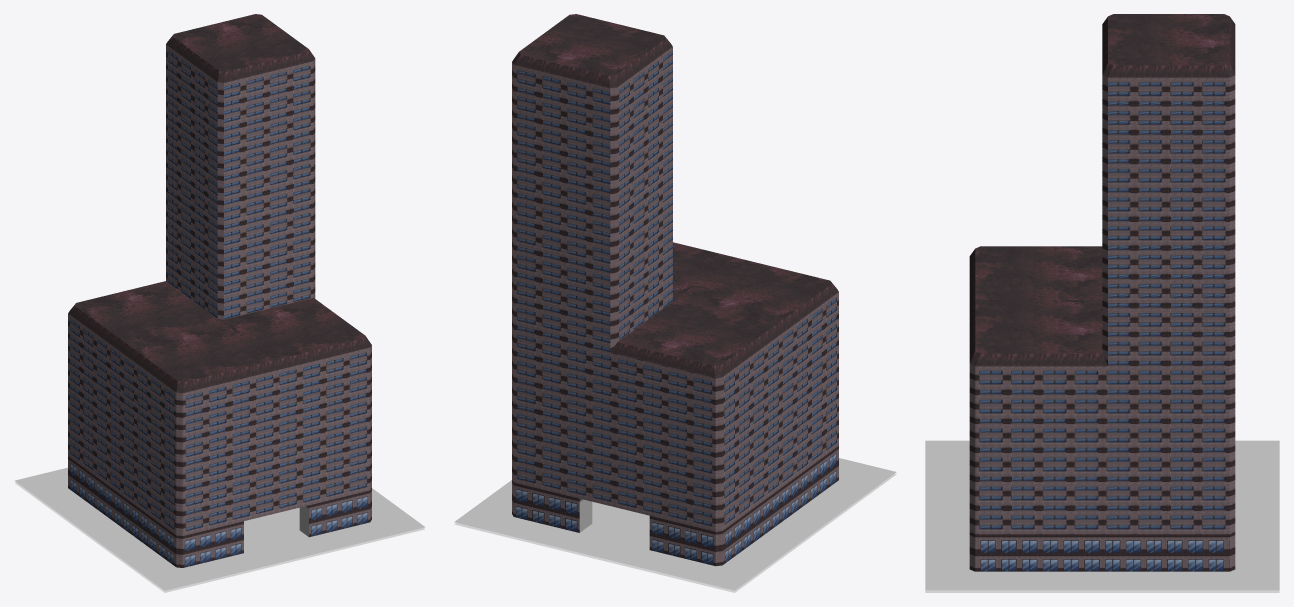
File: bldg03.FBX
3 renders of one model, left to right at view 1: azimuth 30°, elevation 25°; view 2: azimuth 150°, elevation 25°; view 3: azimuth 270°, elevation 25°, orthographic. The views are drawn at different scales.
Parts seen in each view (by area): view 1: bldg03, daroof3, obj002, grid007, terrain__h; view 2: bldg03, daroof3, obj002, grid007, terrain__h; view 3: bldg03, daroof3, obj002, grid007, terrain__h.
Boxes of the visible parts, <box> form: bldg03: <box>68,45,371,535</box>; daroof3: <box>68,14,371,393</box>; obj002: <box>15,467,425,590</box>; grid007: <box>68,456,371,567</box>; terrain__h: <box>14,482,424,592</box>; bldg03: <box>512,47,838,531</box>; daroof3: <box>512,14,838,377</box>; obj002: <box>454,458,896,590</box>; grid007: <box>512,446,838,566</box>; terrain__h: <box>454,473,896,592</box>; bldg03: <box>969,75,1235,534</box>; daroof3: <box>969,14,1235,366</box>; obj002: <box>925,440,1279,590</box>; grid007: <box>969,532,1235,571</box>; terrain__h: <box>925,590,1279,592</box>.
Size of what is drawn, in the model's own units: 64 by 64 by 101.
